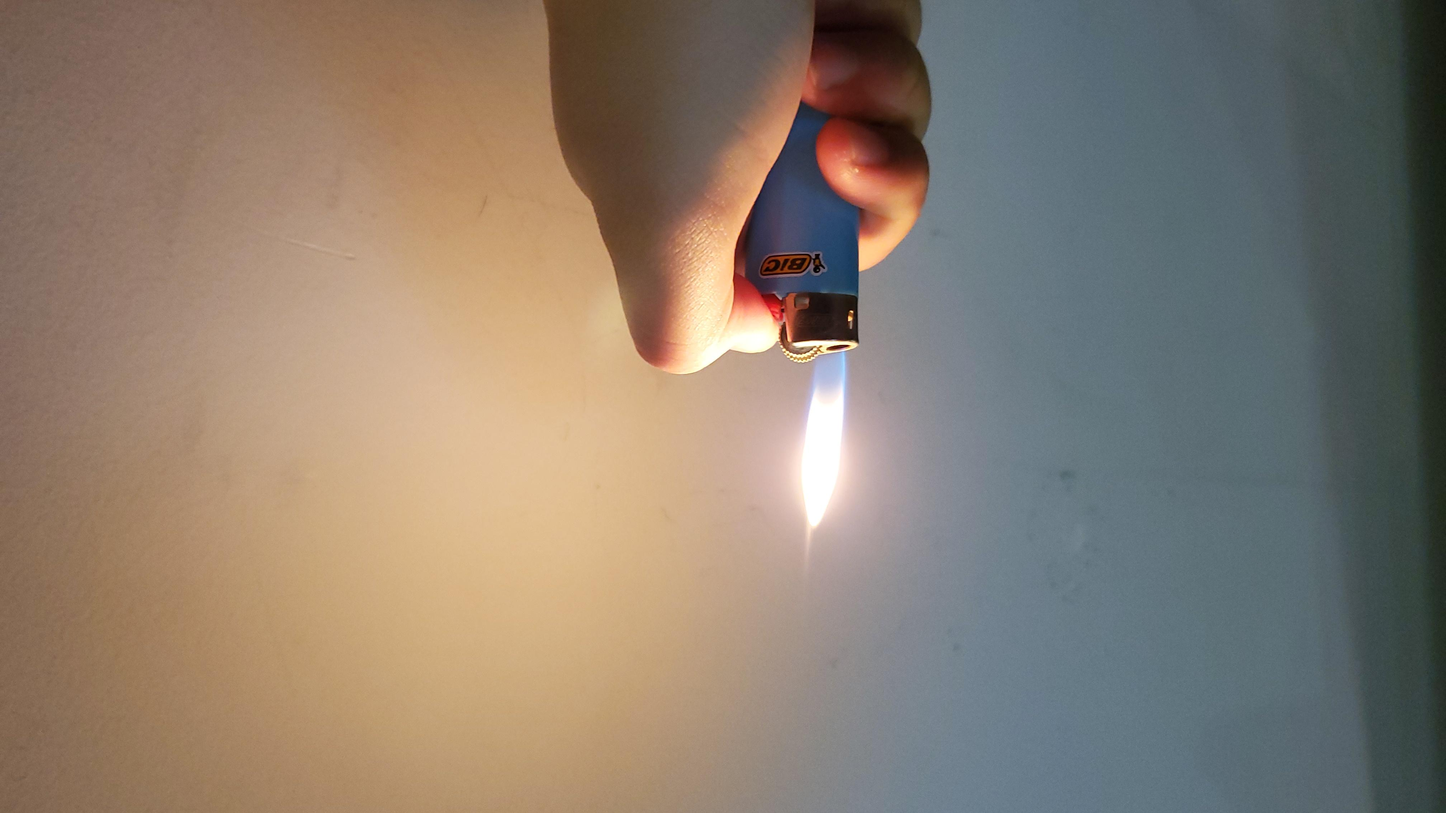fire: (599, 278, 649, 457)
